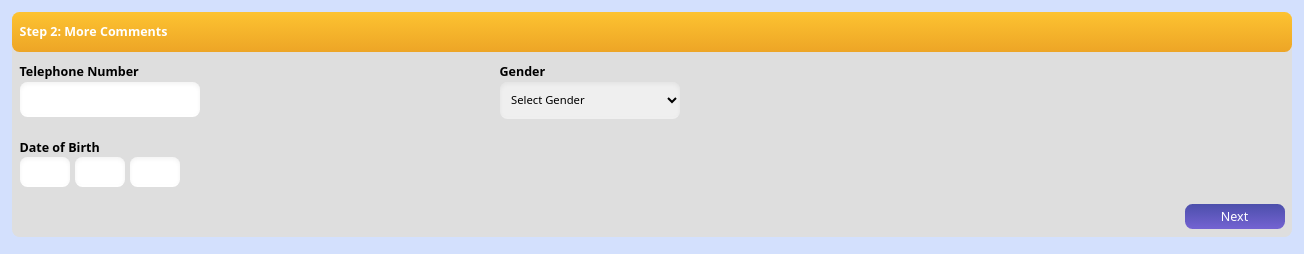
Scenario: <SectionTwo/> › Initial state › if Button is clicked, and all fields are not valid expect error message
Expected: the button "Next" is shown, [1184,204,1284,229]
In the number field with test id "day": (44, 172) [20,157,70,187], type "01"
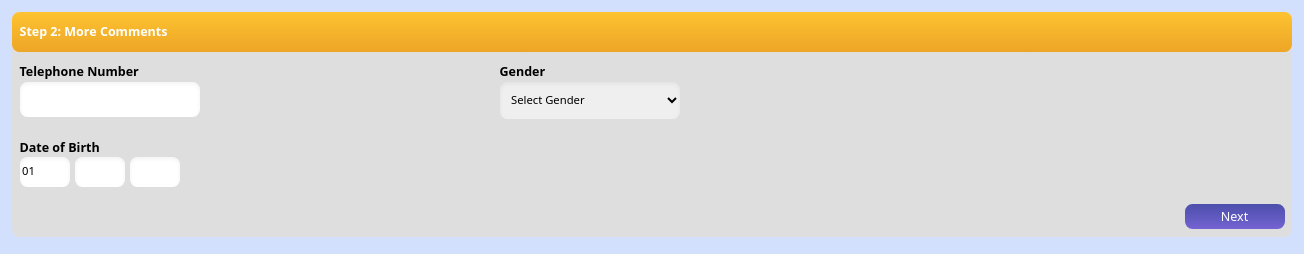
Click the button "Next": (1234, 217) [1184,204,1284,229]
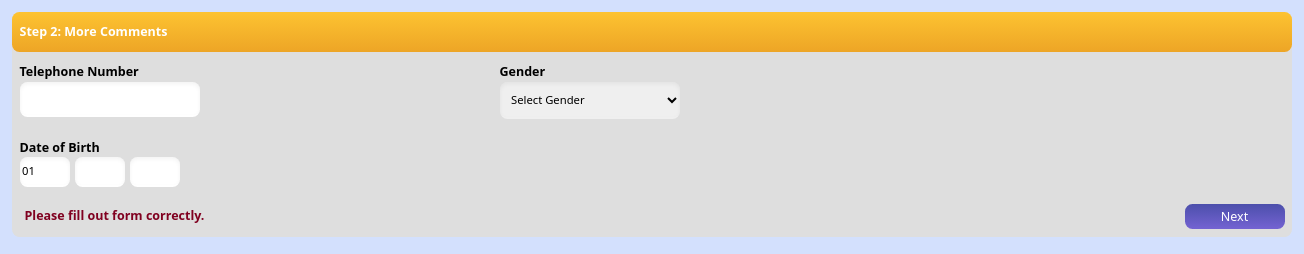
Result: the text "Please fill out form correctly." is shown at [24,207,204,224]
